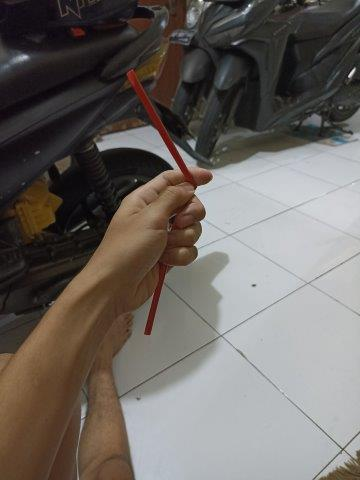sedotan: (126, 70, 197, 334)
